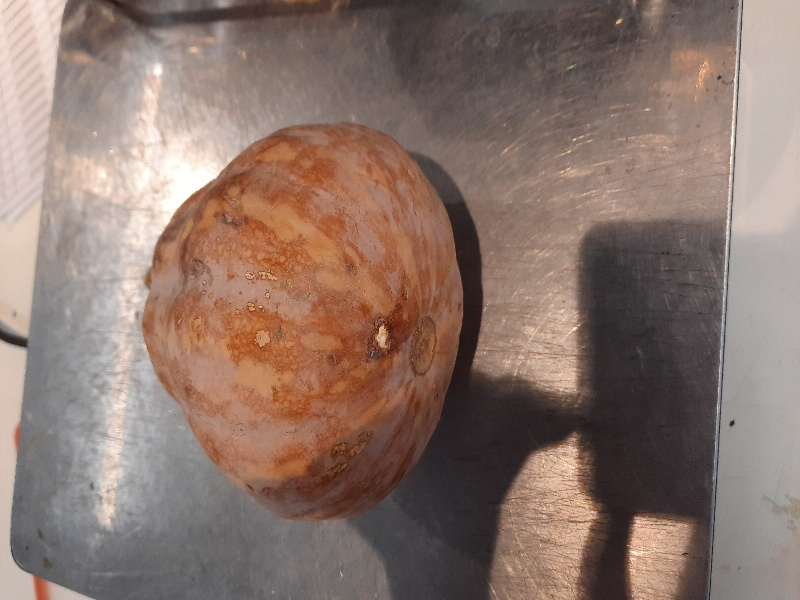vege: (135, 119, 472, 526)
